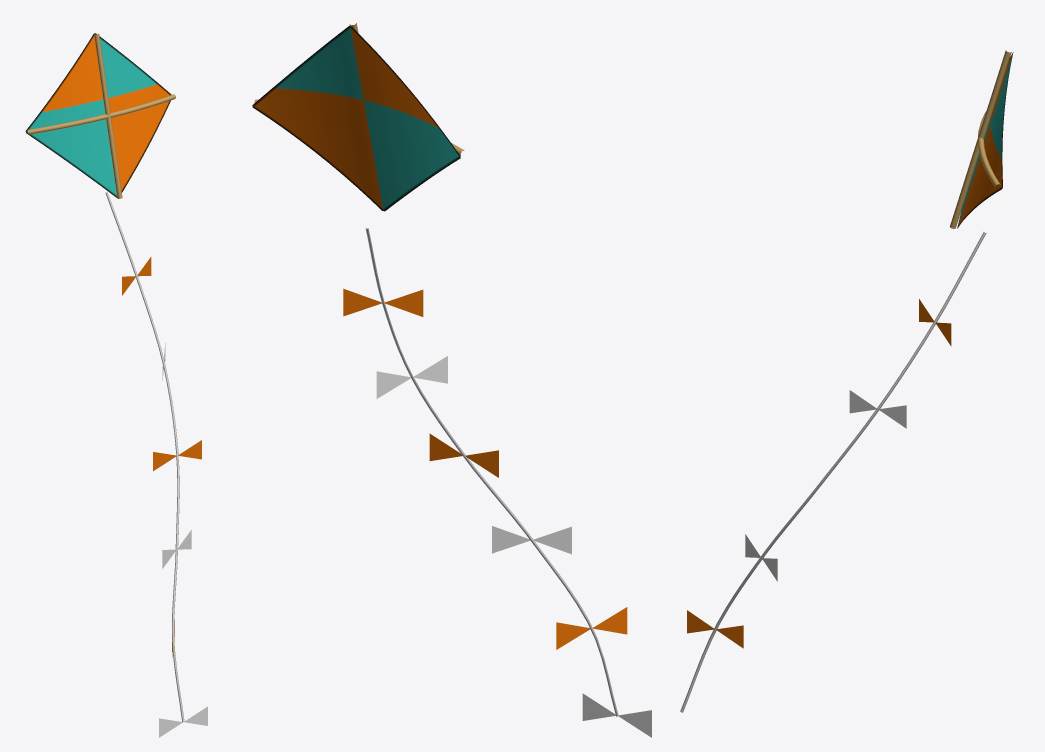
The model's file is capucheta-6.glb.
3 views of the same model, side by side, from view 1: azimuth 30°, elevation 25°; view 2: azimuth 150°, elevation 25°; view 3: azimuth 270°, elevation 25° (orthographic). The views are drawn at different scales.
Visible parts, largest first — view 1: capucheta-6; view 2: capucheta-6; view 3: capucheta-6.
Part boxes in pixels (x1=…): capucheta-6: x1=25, y1=33, x2=207, y2=737; capucheta-6: x1=252, y1=23, x2=651, y2=737; capucheta-6: x1=680, y1=50, x2=1013, y2=712.
Bounding box in the file's own units: 0.7882 × 2.98 × 1.35.
Materials: 5 (1 with a texture image).
